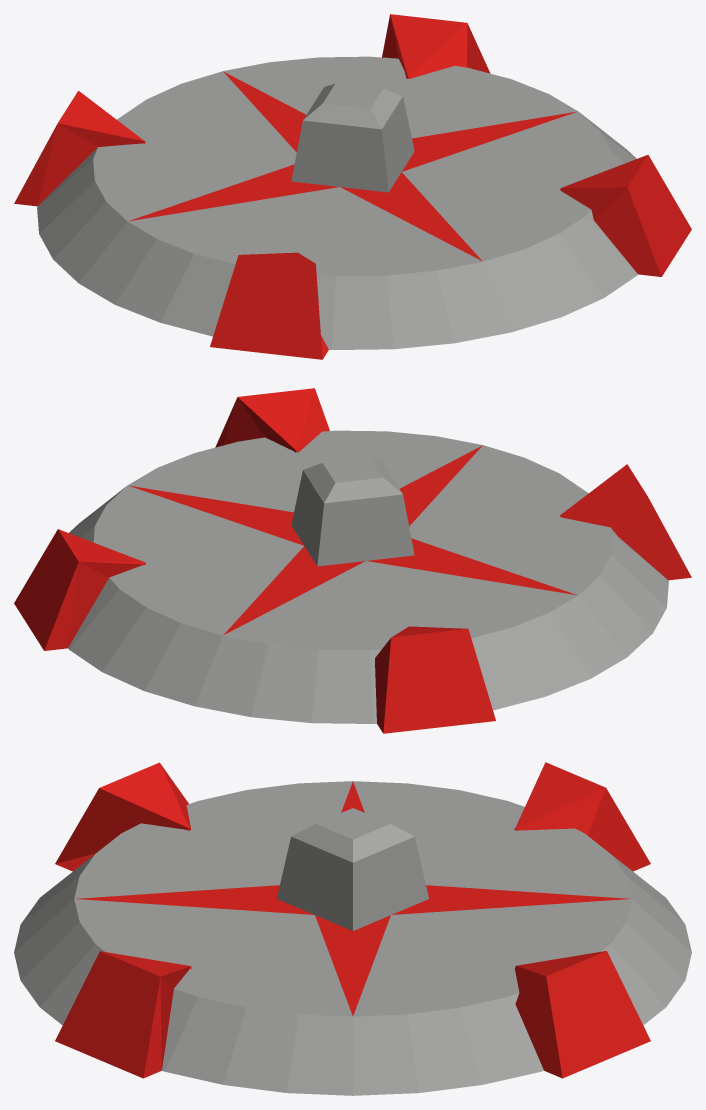
Rendered from Beyblade_Base_Fire.fbx.
3 views of the same model, one above another, from view 1: azimuth 30°, elevation 25°; view 2: azimuth 150°, elevation 25°; view 3: azimuth 270°, elevation 25° (orthographic). The views are drawn at different scales.
Visible parts, largest first — view 1: Circle; view 2: Circle; view 3: Circle.
Boxes of the visible parts, x1,y1,x2,y2 form: Circle: (14,14,691,359); Circle: (14,388,691,733); Circle: (14,762,691,1095).
Bounding box in the file's own units: 200 × 41.92 × 200.
1 material, 1 textured.
